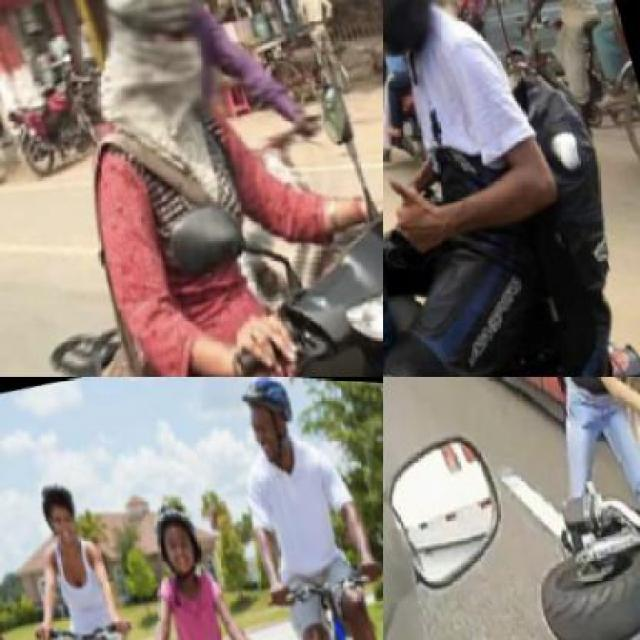With Helmet: (77, 0, 235, 142), (27, 452, 104, 568), (232, 377, 310, 465), (145, 489, 213, 583)
